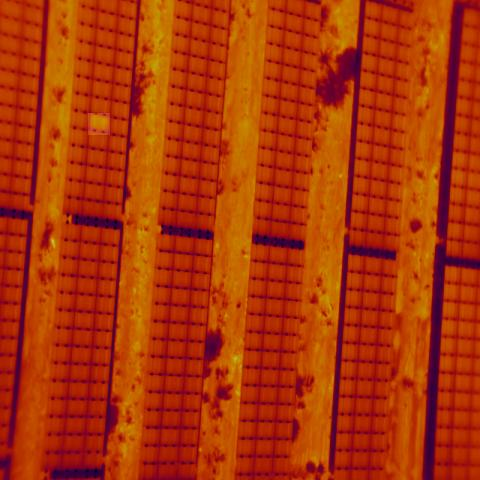fault: (88, 114, 110, 136)
